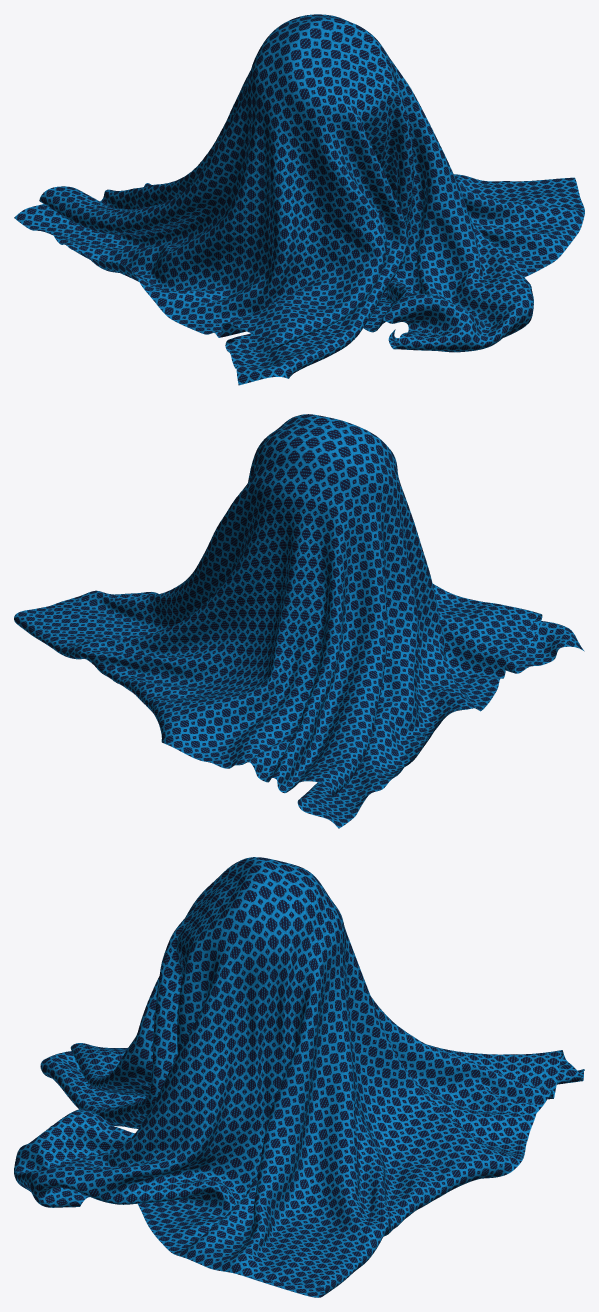
The model's file is SheenCloth.gltf.
The picture shows the model from 3 angles, top to bottom: view 1: azimuth 30°, elevation 25°; view 2: azimuth 150°, elevation 25°; view 3: azimuth 270°, elevation 25°; orthographic projection. The views are drawn at different scales.
Visible parts, largest first — view 1: SheenCloth_mesh; view 2: SheenCloth_mesh; view 3: SheenCloth_mesh.
Boxes of the visible parts, x1,y1,x2,y2 form: SheenCloth_mesh: [14, 14, 584, 385]; SheenCloth_mesh: [14, 414, 584, 828]; SheenCloth_mesh: [14, 857, 584, 1297].
Size of the model in its own units: 0.0721 by 0.0403 by 0.0713.
1 material, 1 textured.
